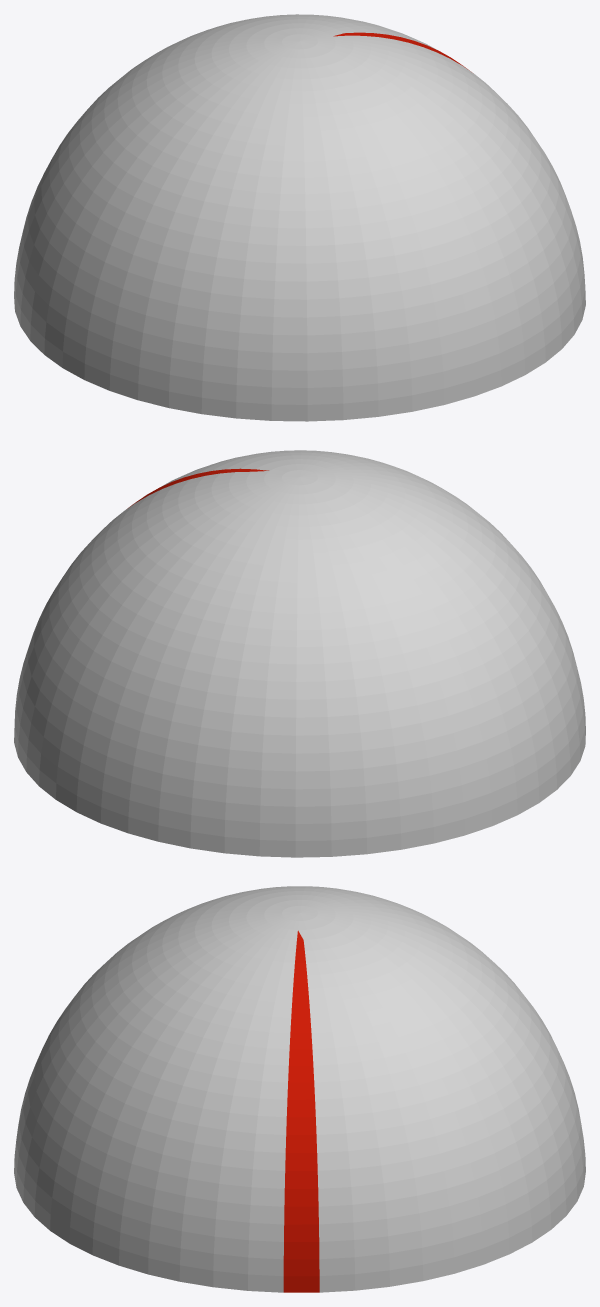
File: polukugla_obojana.dae
3 renders of one model, top to bottom at view 1: azimuth 30°, elevation 25°; view 2: azimuth 150°, elevation 25°; view 3: azimuth 270°, elevation 25°, orthographic.
Parts seen in each view (by area): view 1: Polukugla; view 2: Polukugla; view 3: Polukugla.
Part boxes in pixels (bbox=[...]): Polukugla: bbox=[14, 14, 585, 421]; Polukugla: bbox=[14, 450, 585, 857]; Polukugla: bbox=[14, 886, 585, 1292].
Bounding box in the file's own units: 0.2995 × 0.3 × 0.15.
